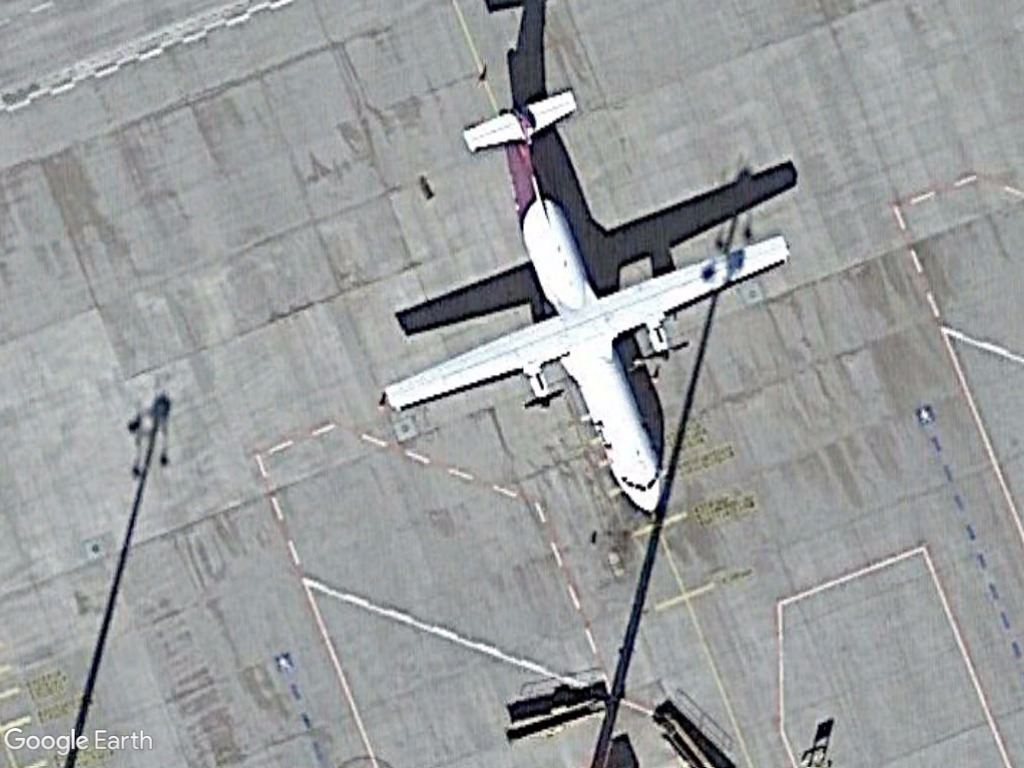propeller: (360, 78, 808, 556)
